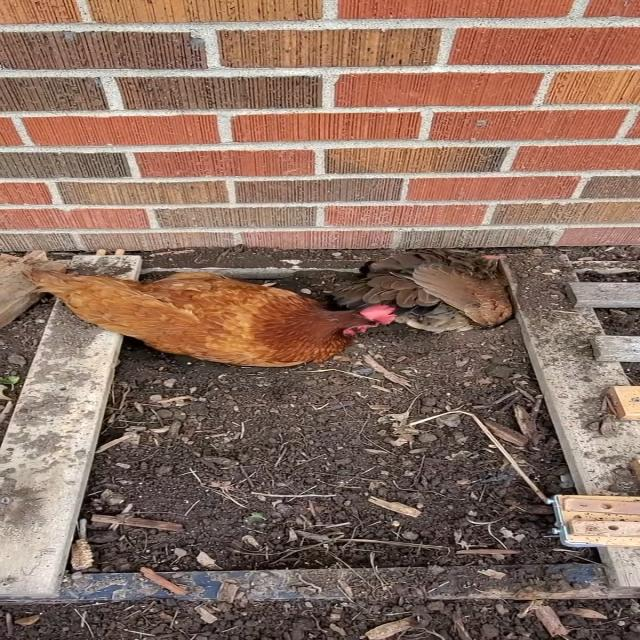stand bath: (0, 263, 397, 372), (324, 244, 520, 336)
